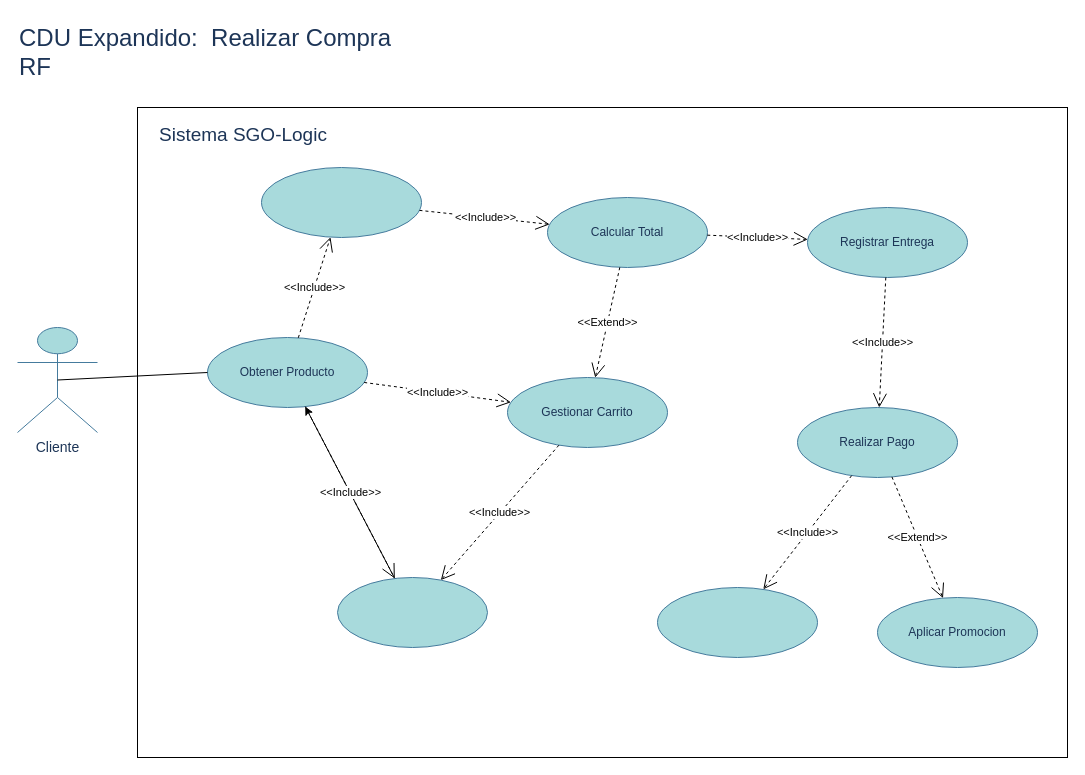
Some shapes in this 1085 by 775 pixel diagram are drawn without their labels. Each missing label, with the box of its shape:
Consultar Producto: (336, 576, 488, 648)
Generar Comprobante: (656, 586, 818, 658)
Verificar Disponibilidad: (260, 166, 422, 238)
